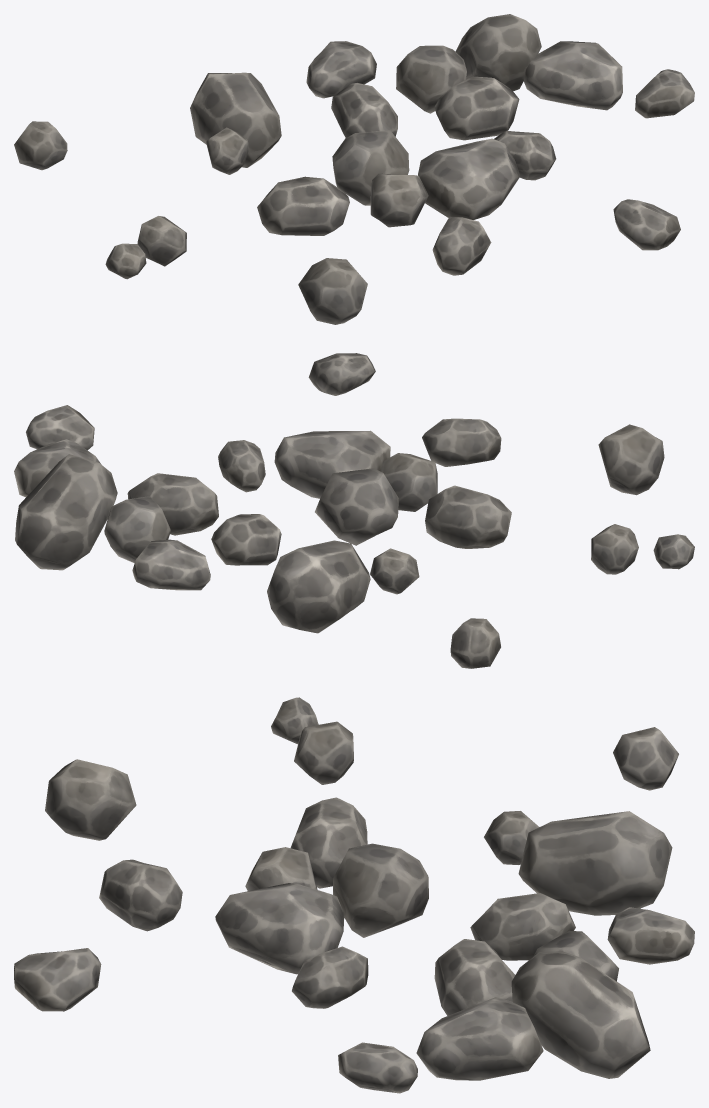
The model's file is Pebbles.fbx.
3 renders of one model, top to bottom at view 1: azimuth 30°, elevation 25°; view 2: azimuth 150°, elevation 25°; view 3: azimuth 270°, elevation 25°, orthographic. The views are drawn at different scales.
Parts seen in each view (by area): view 1: polySurface22; view 2: polySurface22; view 3: polySurface22.
Part boxes in pixels (x1=…): polySurface22: x1=14, y1=14, x2=694, y2=324; polySurface22: x1=14, y1=353, x2=694, y2=668; polySurface22: x1=14, y1=697, x2=694, y2=1093.
Bounding box in the file's own units: 38.93 × 5.51 × 29.99.
